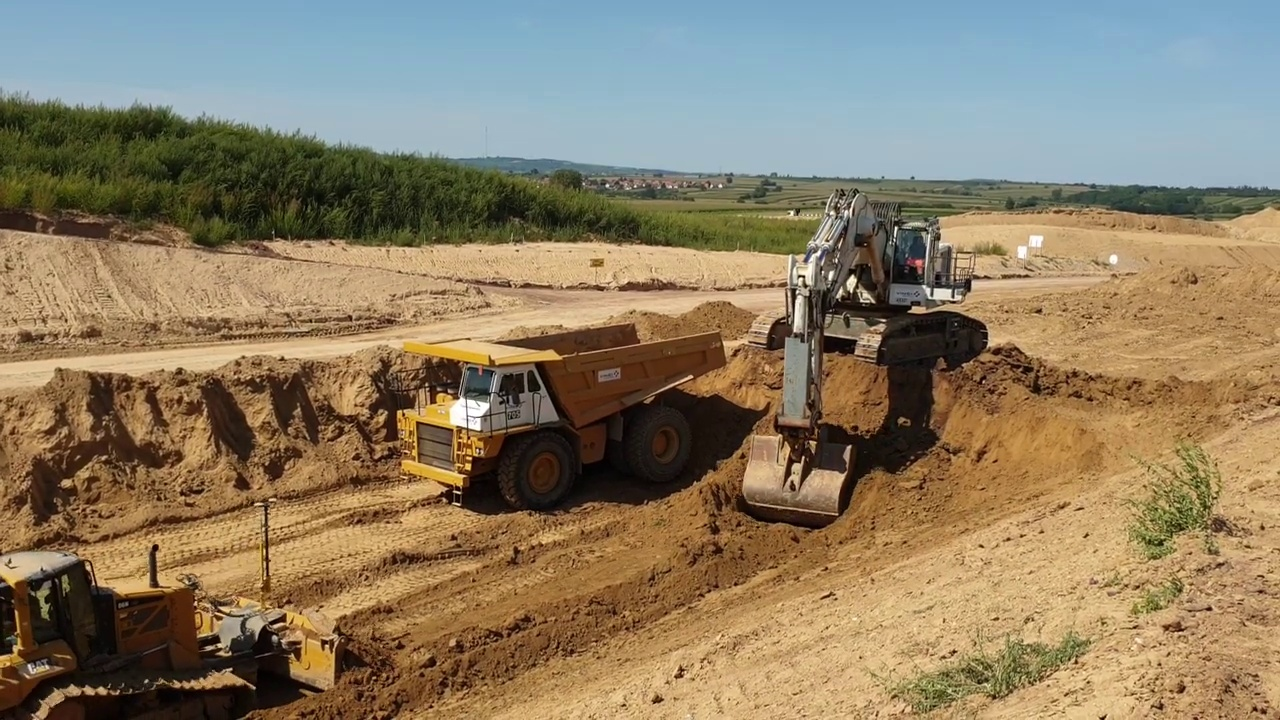bulldozer: (1, 492, 366, 720)
excavator: (739, 183, 995, 524)
truck: (377, 320, 733, 514)
